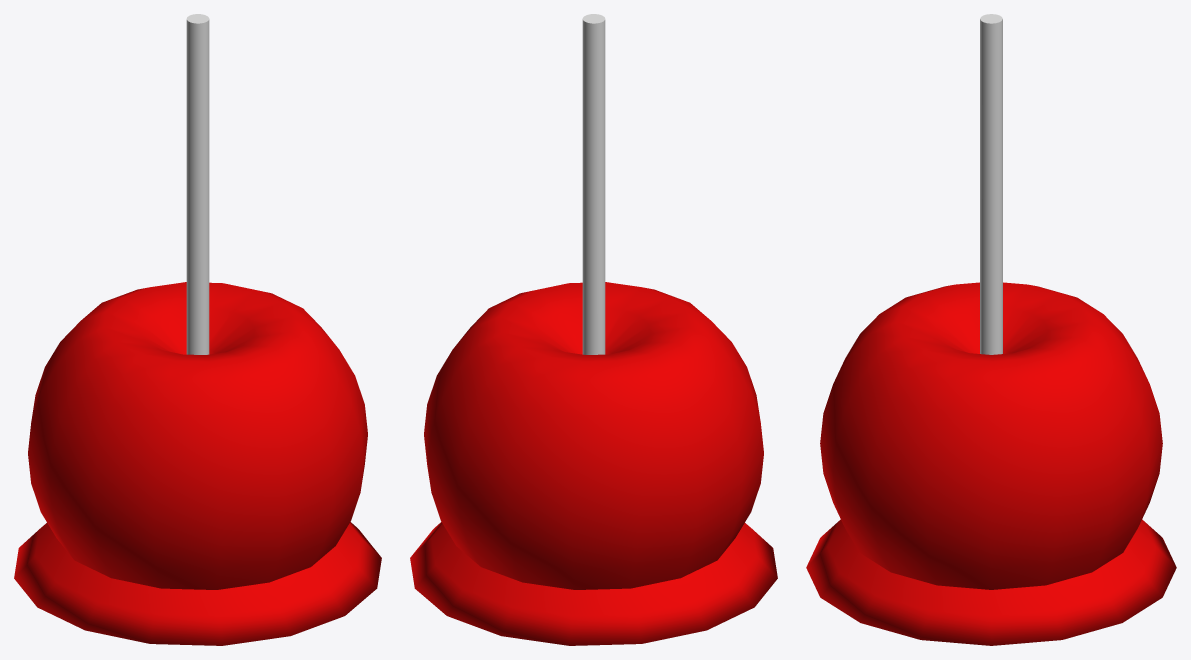
File: Caramel Apple.fbx
3 views of the same model, side by side, from view 1: azimuth 30°, elevation 25°; view 2: azimuth 150°, elevation 25°; view 3: azimuth 270°, elevation 25° (orthographic).
Parts seen in each view (by area): view 1: caramel_Apple, stick; view 2: caramel_Apple, stick; view 3: caramel_Apple, stick.
Boxes of the visible parts, box(x1,y1,x2,y2) form: caramel_Apple: box(14, 282, 381, 645); stick: box(186, 14, 209, 354); caramel_Apple: box(410, 282, 777, 645); stick: box(582, 14, 605, 354); caramel_Apple: box(806, 282, 1176, 645); stick: box(980, 14, 1002, 354).
Bounding box in the file's own units: 2.16 × 3.53 × 2.16.
